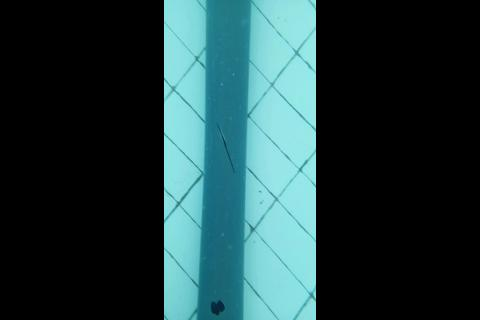kebocoran: (209, 299, 226, 316)
keretakan: (217, 121, 236, 173)
